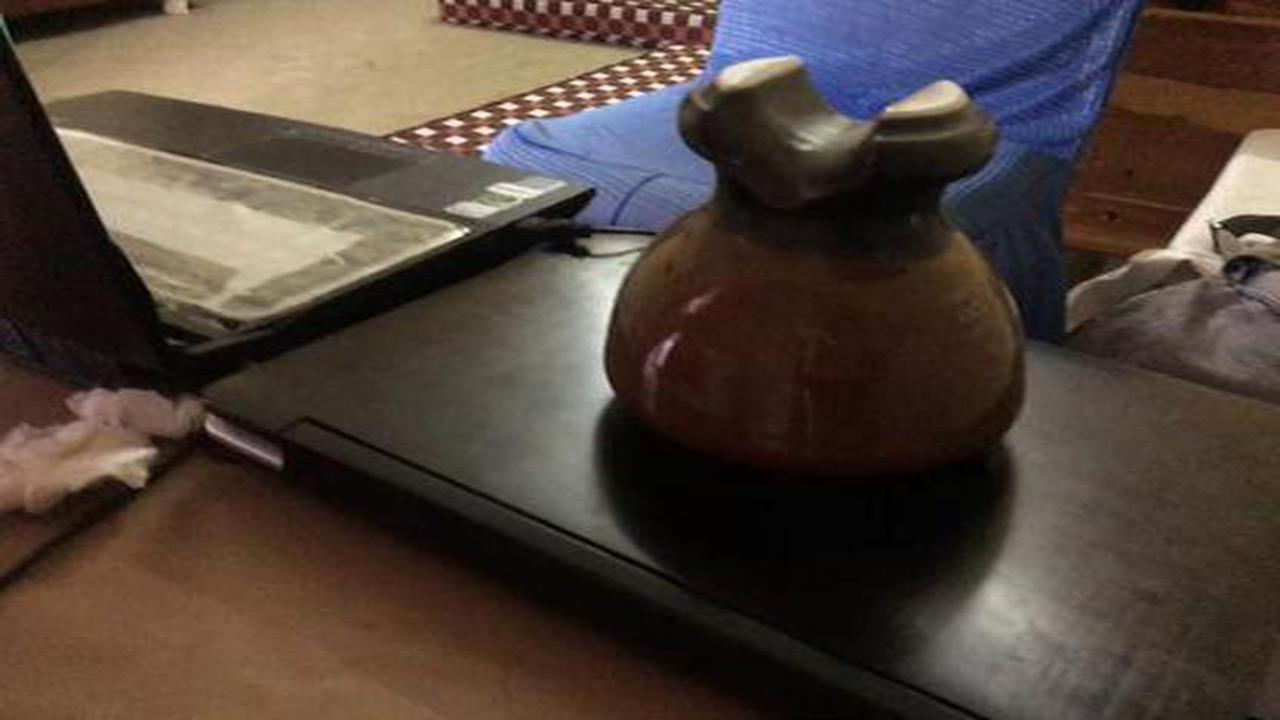insulator_pin: (594, 42, 1056, 502)
